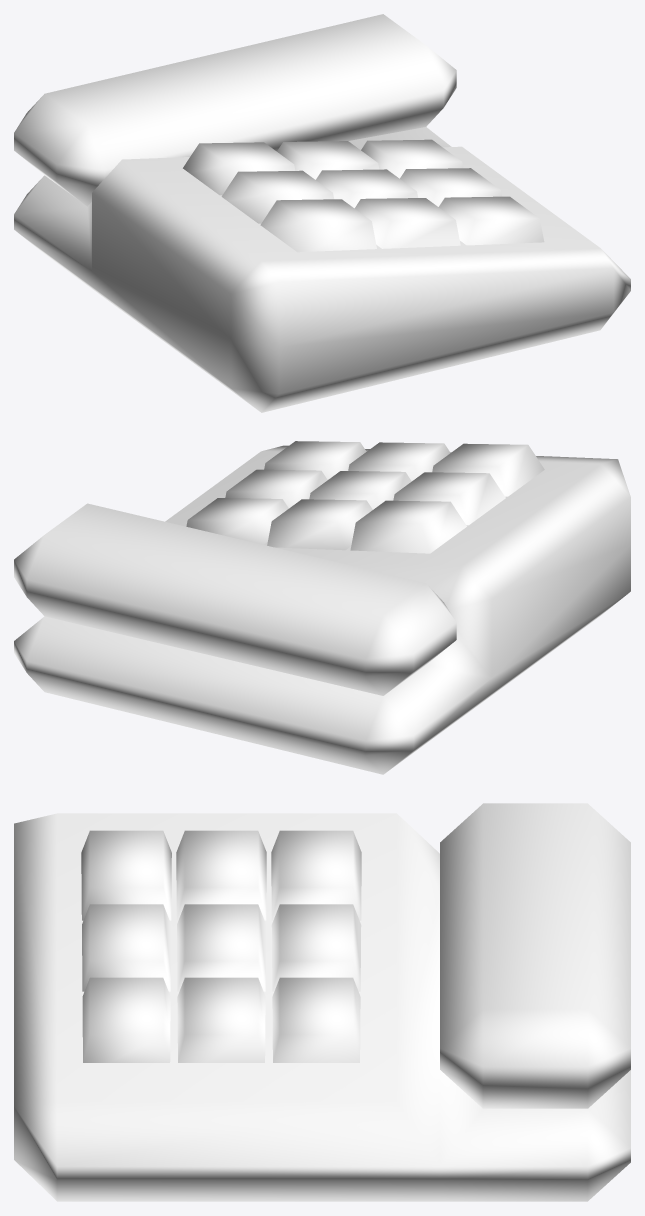
Rendered from Phone.fbx.
3 renders of one model, top to bottom at view 1: azimuth 30°, elevation 25°; view 2: azimuth 150°, elevation 25°; view 3: azimuth 270°, elevation 25°, orthographic. The views are drawn at different scales.
Visible parts, largest first — view 1: Phone; view 2: Phone; view 3: Phone.
Part boxes in pixels (box(x1,y1,x2,y2)): Phone: box(14, 14, 630, 412); Phone: box(14, 441, 630, 774); Phone: box(14, 803, 630, 1201).
Size of the model in its own units: 40.59 by 16.17 by 44.37.
